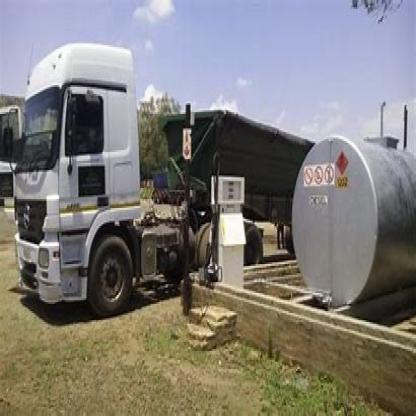dump_truck: (10, 40, 295, 320)
